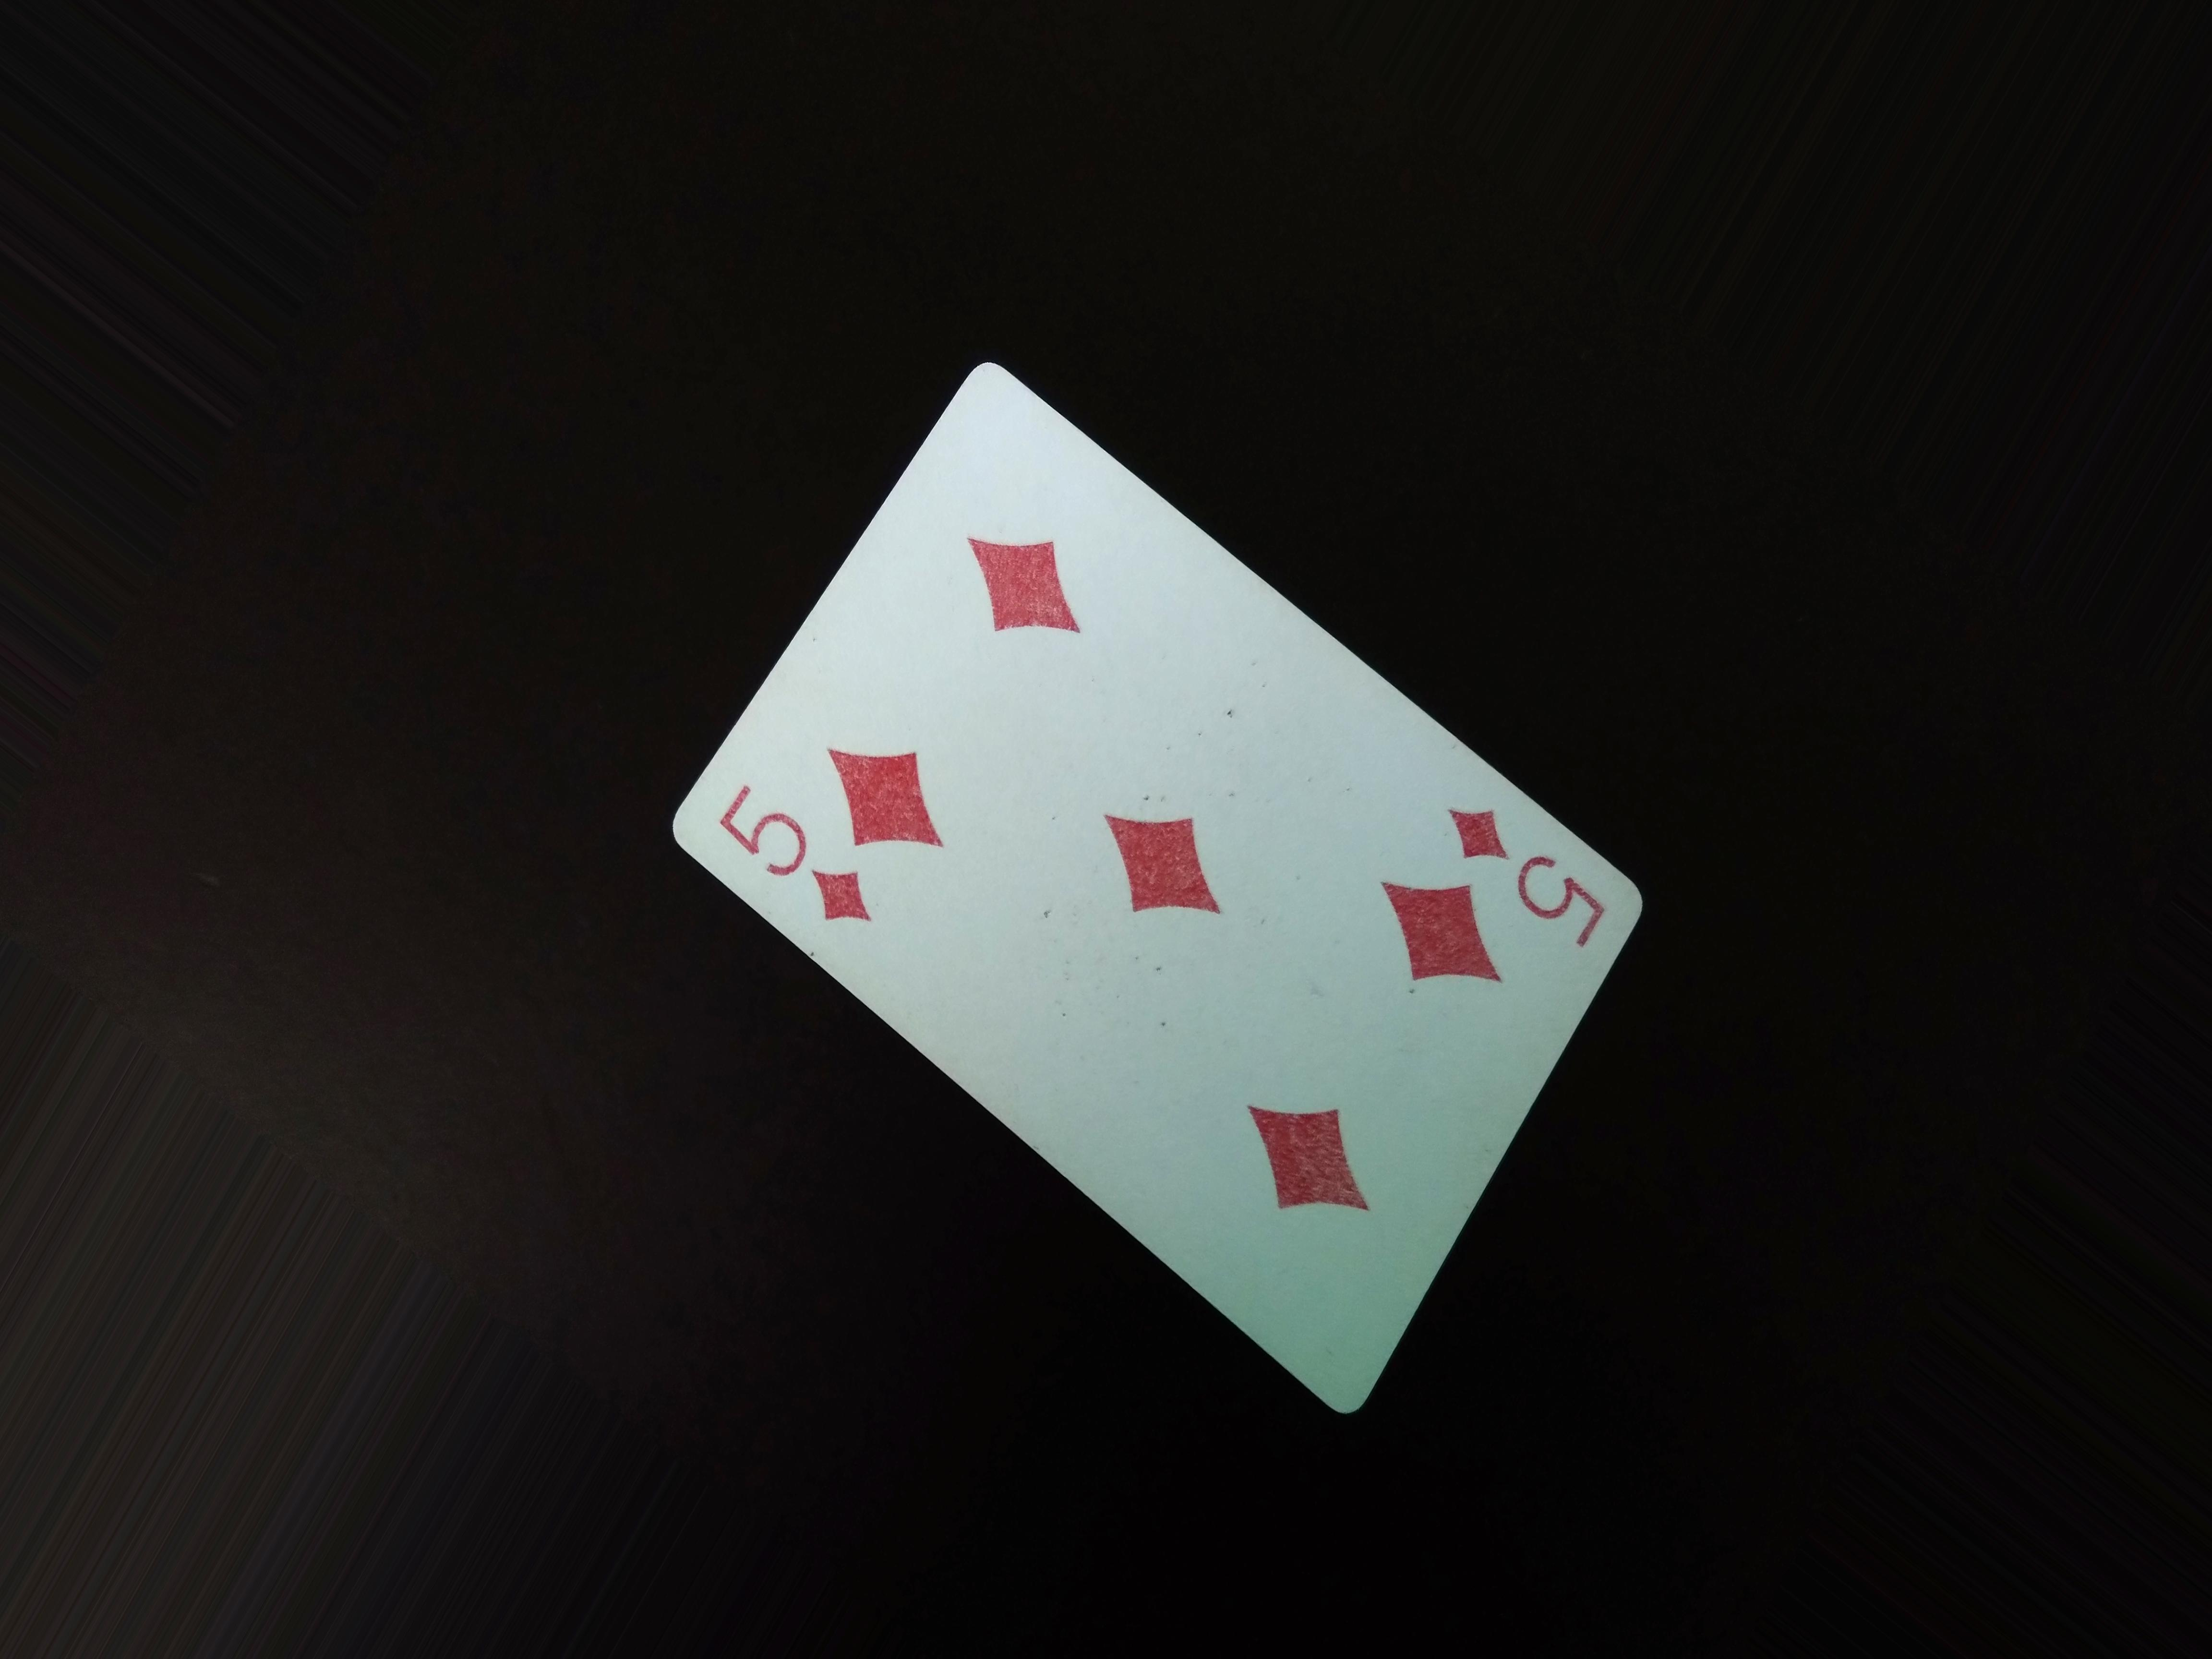5D: (721, 775, 907, 958)
